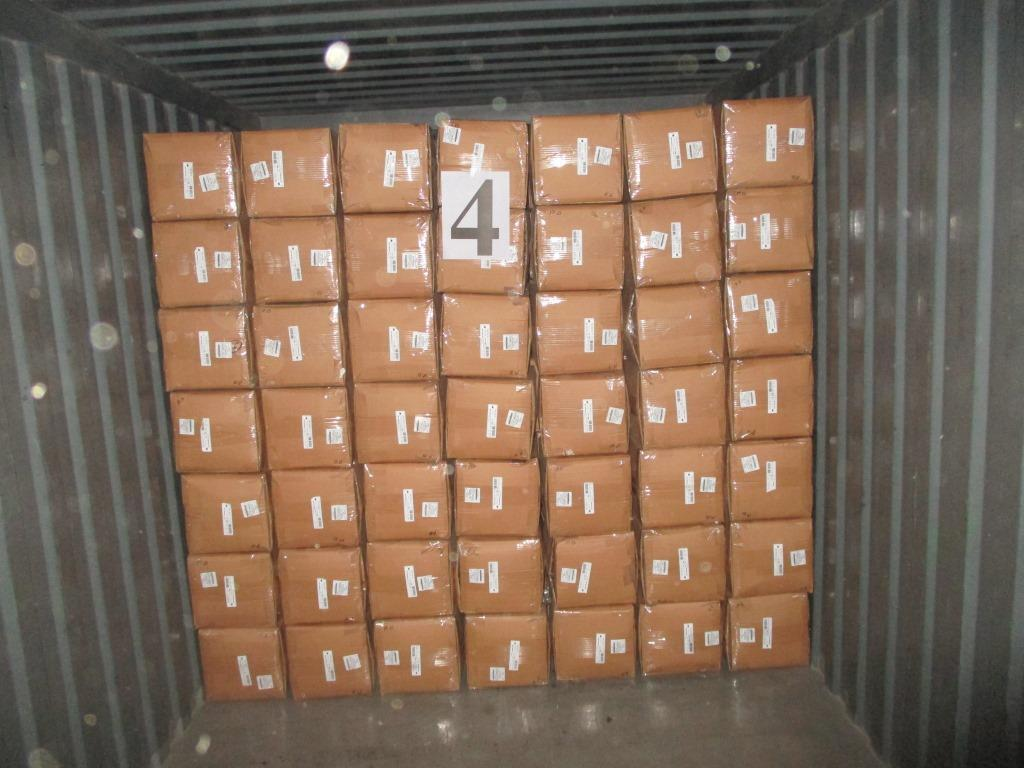carton: (623, 103, 720, 200), (624, 194, 722, 286), (143, 129, 242, 219), (152, 218, 252, 307), (719, 95, 813, 189), (529, 113, 624, 205), (337, 122, 433, 213), (240, 127, 337, 217), (626, 283, 726, 370), (158, 304, 257, 389), (435, 118, 528, 208), (249, 302, 346, 387), (722, 184, 813, 273), (248, 216, 342, 302), (533, 202, 624, 290), (342, 211, 434, 298), (633, 363, 726, 449), (438, 292, 530, 378), (346, 297, 438, 383), (435, 207, 527, 293), (169, 388, 262, 473), (723, 269, 812, 357), (261, 385, 352, 470), (537, 371, 628, 456), (531, 289, 622, 374), (350, 381, 443, 463), (445, 376, 535, 459), (181, 472, 272, 554), (270, 467, 361, 549), (725, 436, 812, 521), (636, 444, 724, 528), (544, 453, 633, 536), (728, 354, 813, 440), (275, 546, 367, 624), (366, 539, 454, 619), (638, 524, 726, 604), (361, 461, 450, 540), (451, 459, 540, 537), (187, 552, 278, 628), (546, 532, 637, 608), (454, 537, 543, 614), (372, 615, 460, 692), (727, 518, 812, 596), (284, 622, 371, 698), (197, 626, 287, 699), (726, 591, 809, 669), (552, 604, 636, 681), (638, 600, 723, 676), (464, 613, 549, 688)
